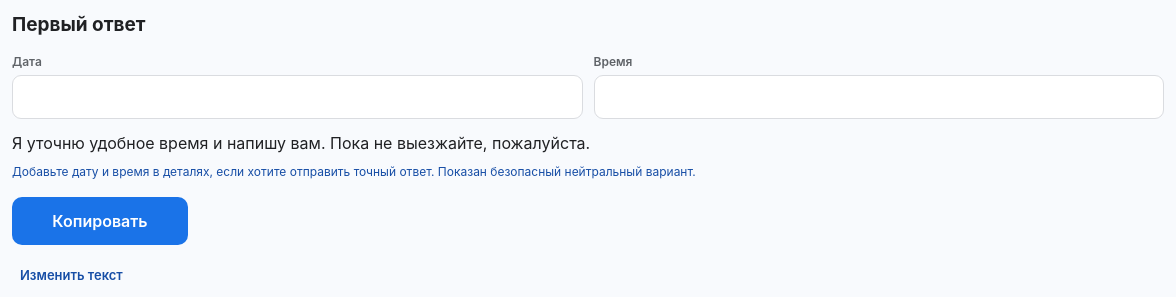
CopyComposer › offers and copies a neutral alternative when required fields are missing
Expected: the text named "Текст сообщения" reads "Я уточню удобное время и напишу вам. Пока не выезжайте, пожалуйста.", [12,133,590,153]
Click the button "Копировать".
click(100, 221)  # box [12,197,188,245]
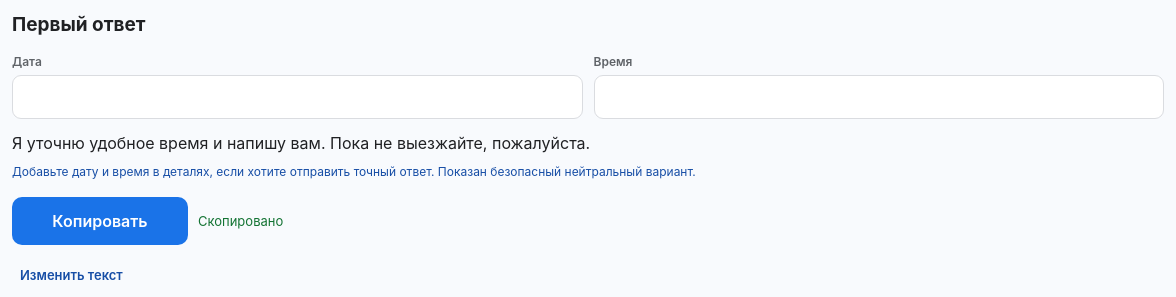
Expected: the text "Скопировано" is shown, [198,213,283,229]
